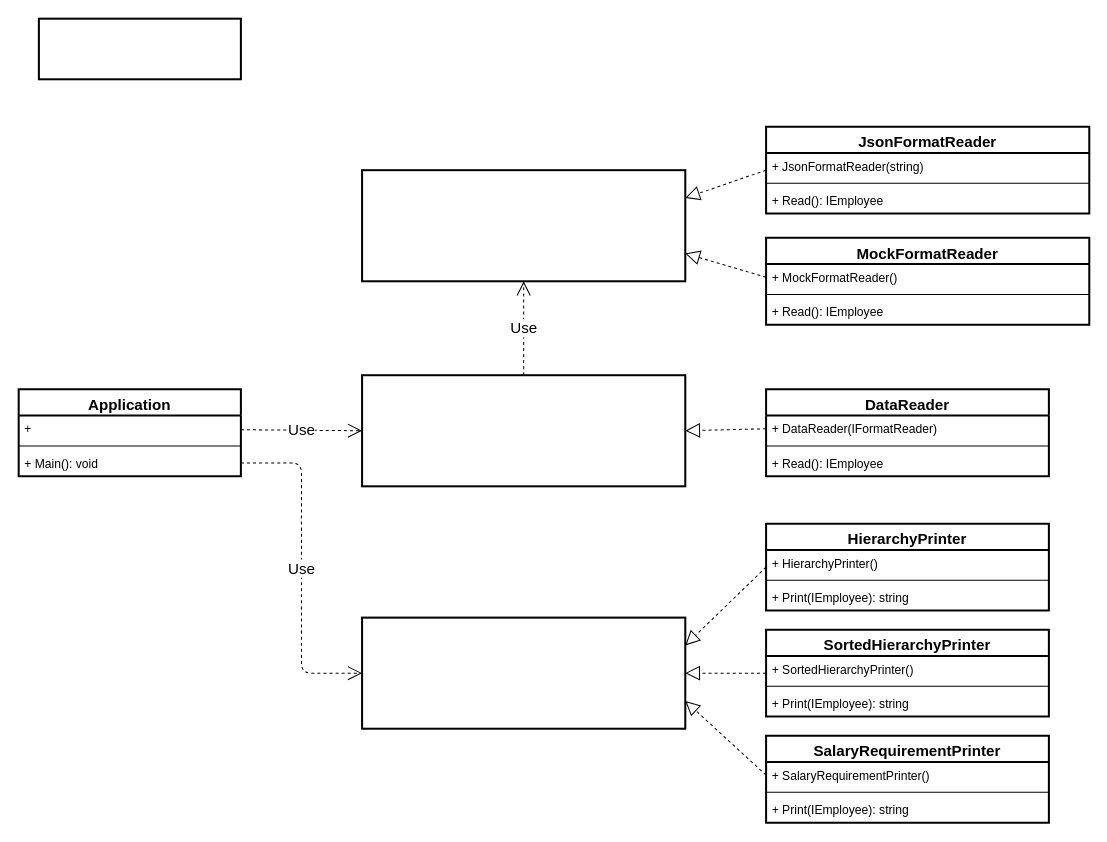
Some shapes in this 1107 by 842 pixel diagram are drawn without their labels. Here are the shapes that lost their labels. From the top down, the centre of each, then its label:
At (x=139, y=48): "UML Overview 0.2.0".
At (x=523, y=225): "<<Interface>> IFormatReader + + + Read(): IEmployee".
At (x=523, y=430): "<<Interface>> IDataReader + + + Read(): IEmployee".
At (x=523, y=672): "<<Interface>> IDataPrinter + + + Print(IEmployee): string".
